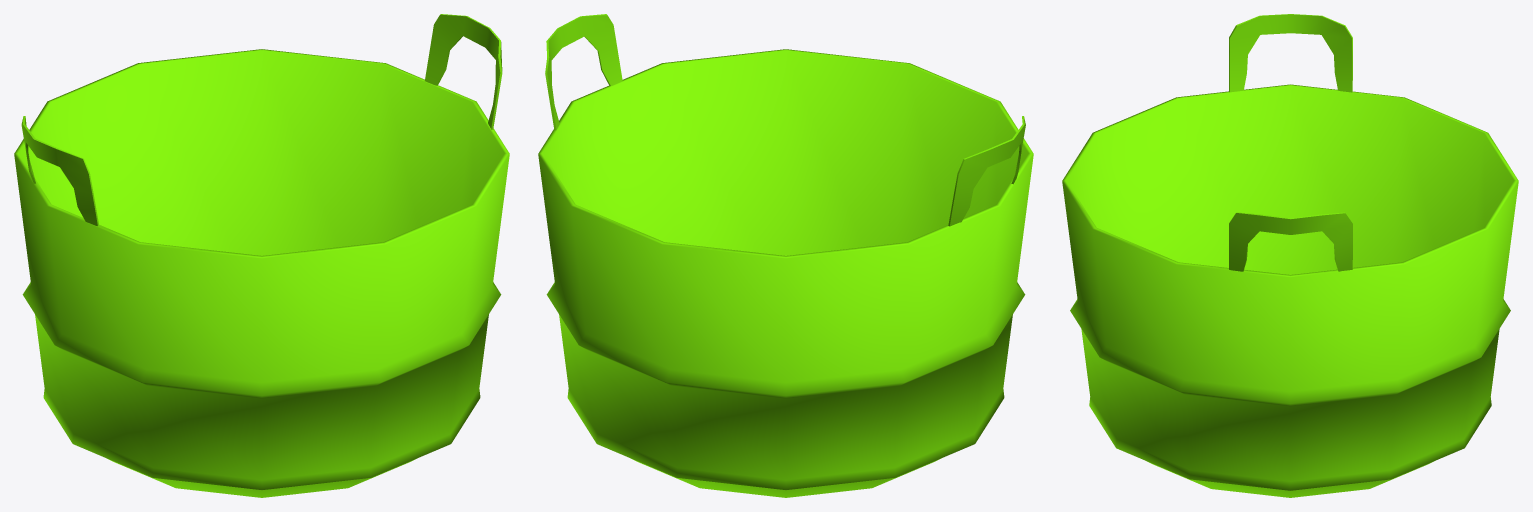
The model's file is Laundry_Tub_F.FBX.
3 views of the same model, side by side, from view 1: azimuth 30°, elevation 25°; view 2: azimuth 150°, elevation 25°; view 3: azimuth 270°, elevation 25° (orthographic). The views are drawn at different scales.
Parts seen in each view (by area): view 1: Laundry_Tub; view 2: Laundry_Tub; view 3: Laundry_Tub.
Part boxes in pixels (x1,y1,x2,y2): Laundry_Tub: [14, 14, 509, 497]; Laundry_Tub: [538, 14, 1033, 497]; Laundry_Tub: [1062, 14, 1518, 497].
Size of the model in its own units: 102 by 73.29 by 96.11.
